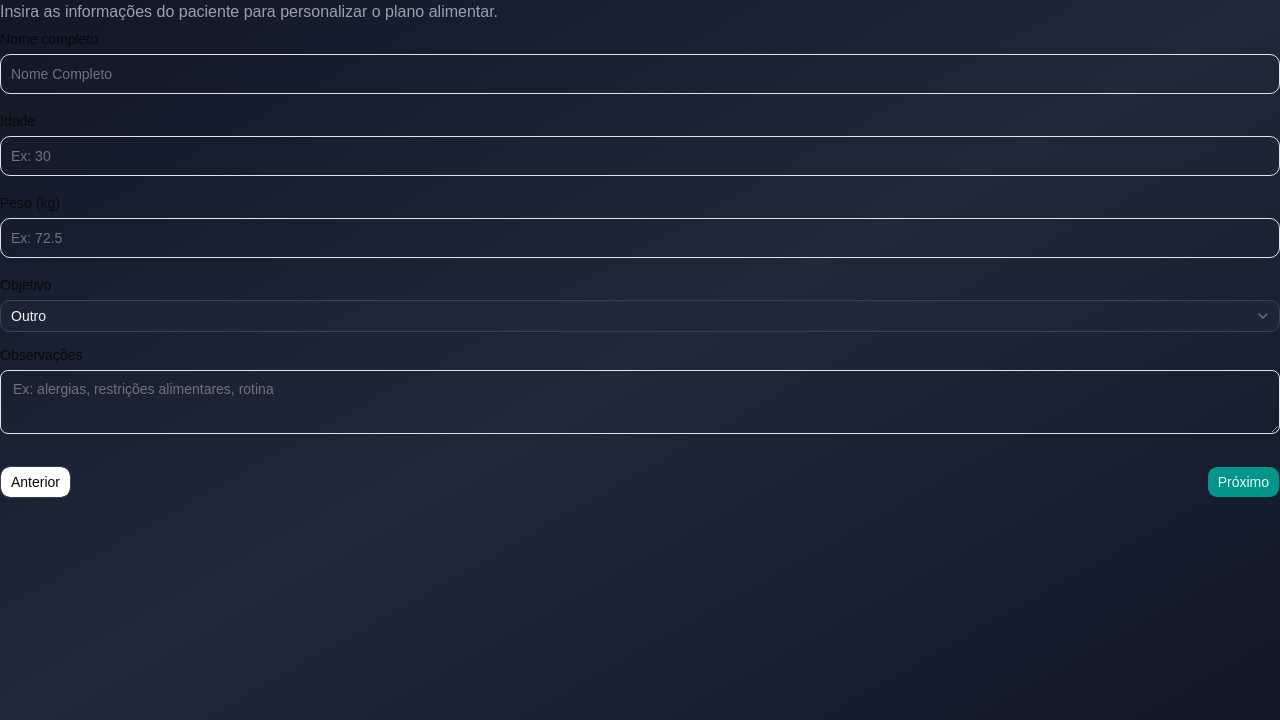
Test case: PatientProfileStep › shows validation errors when submitted with empty fields
Click the button "Próximo".
click(1243, 482)  # box [1207, 466, 1279, 498]
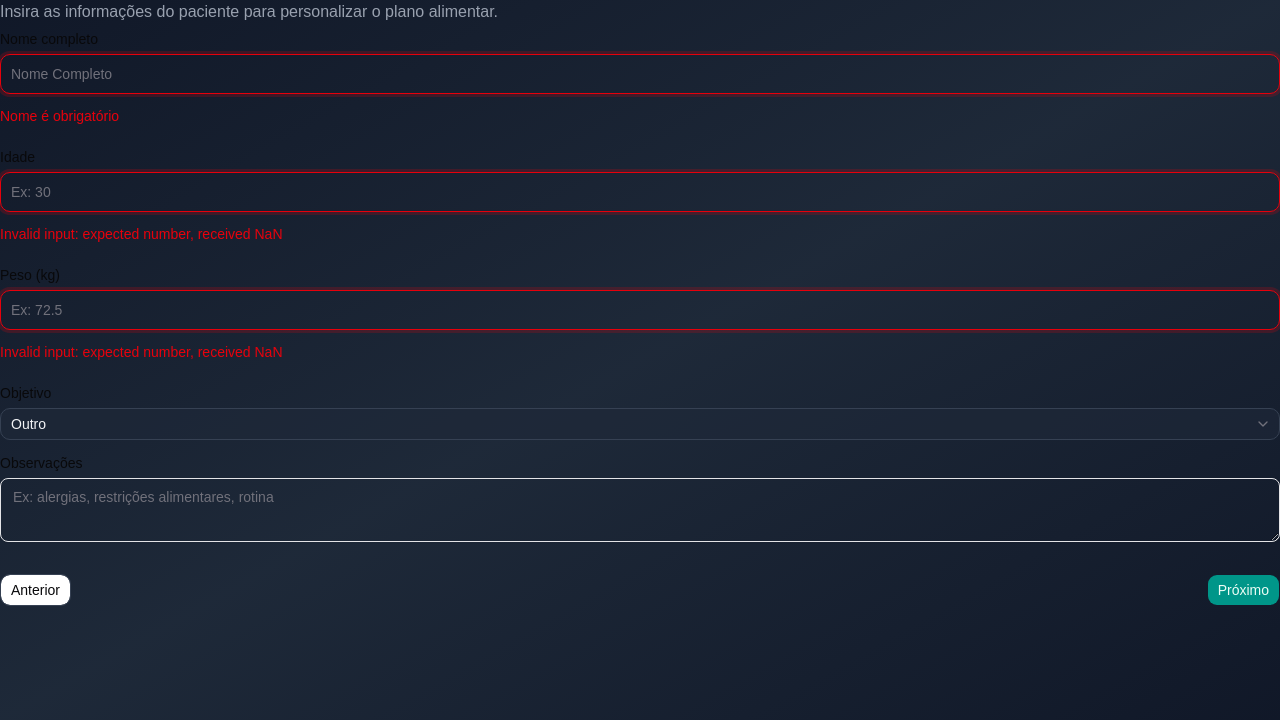
Check: the text "Nome é obrigatório" is shown, box [0, 108, 119, 124]
